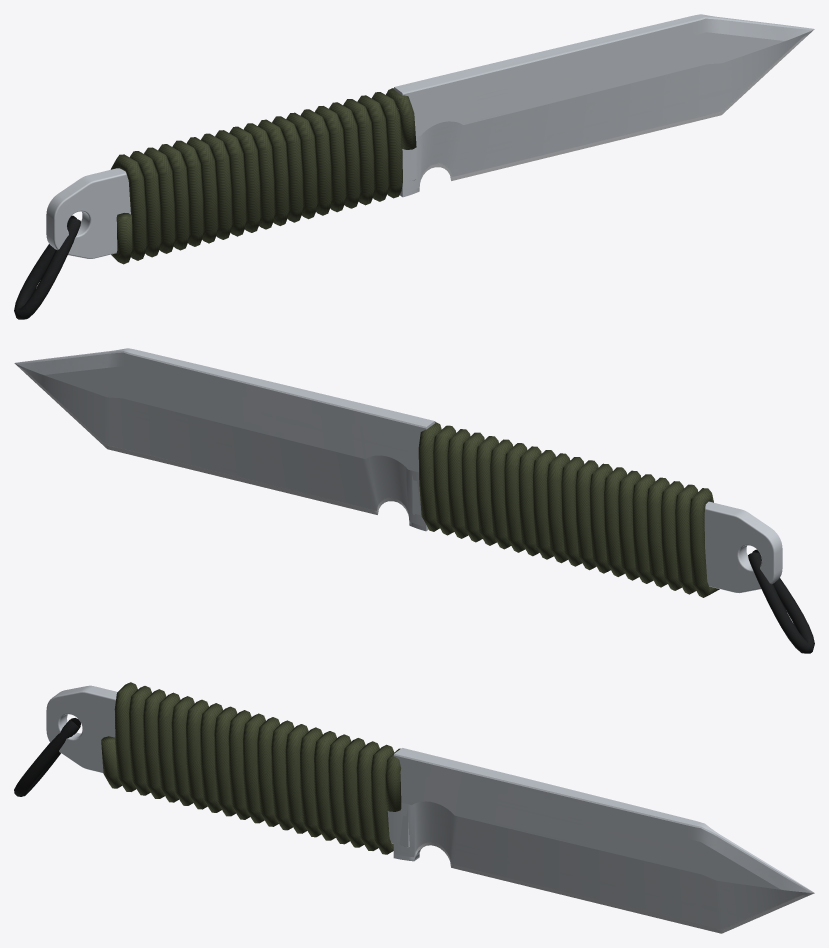
File: paracord.glb
The picture shows the model from 3 angles, top to bottom: view 1: azimuth 30°, elevation 25°; view 2: azimuth 150°, elevation 25°; view 3: azimuth 330°, elevation 25°; orthographic projection.
Visible parts, largest first — view 1: body; view 2: body; view 3: body.
Boxes of the visible parts, bbox=[...] form: body: bbox=[14, 14, 814, 319]; body: bbox=[14, 348, 814, 653]; body: bbox=[14, 682, 814, 933].
Size of the model in its own units: 0.257 by 0.0423 by 0.0128.
4 materials, 4 textured.
